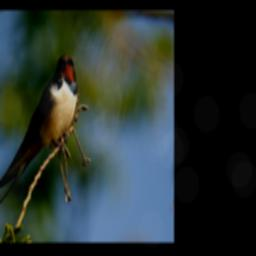Swallow: (0, 54, 77, 234)
